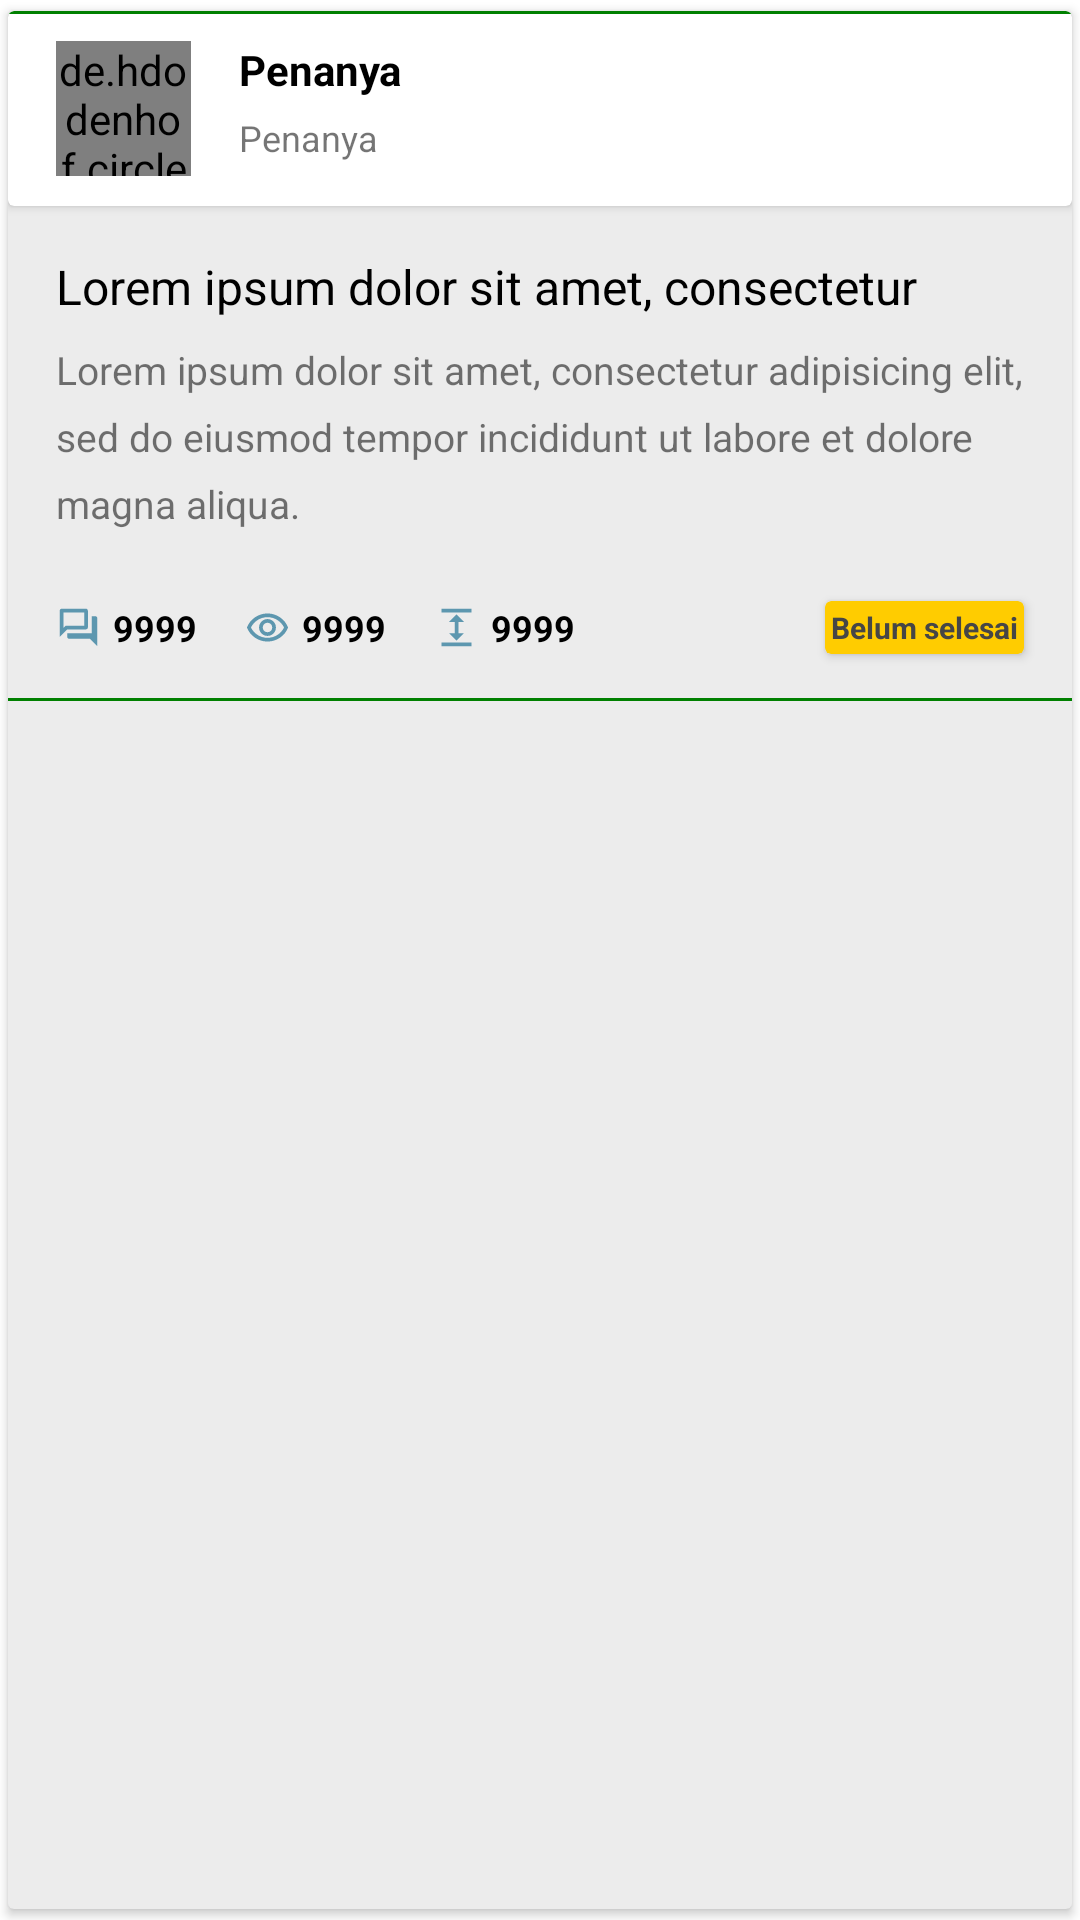

Locate icon controls on the screen. Image size 1080 x 1920, boxes as bbox=[x1, y1, x2, y2].
expand: bbox=[441, 608, 472, 647]
question answer: bbox=[59, 608, 98, 646]
